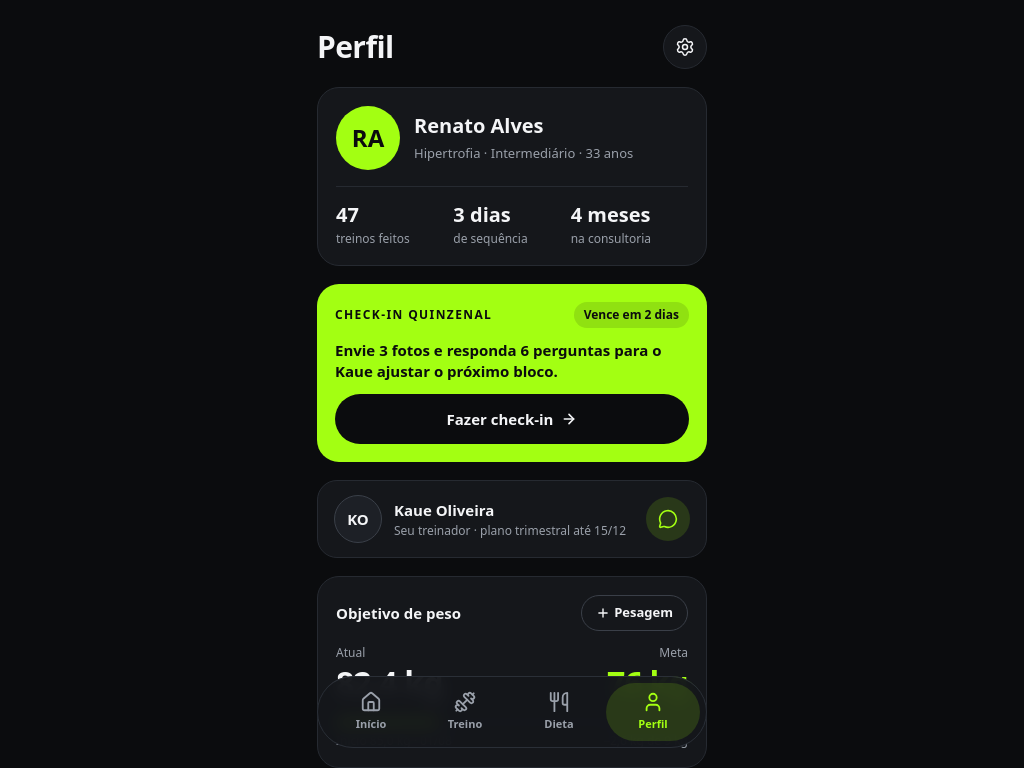
Test: Perfil › registrar uma pesagem atualiza a meta
Expected: the element named "Seus dados" is shown, left=317, top=87, right=707, bottom=266
Click the button "Pesagem" at [635, 613], box left=581, top=595, right=688, bottom=631
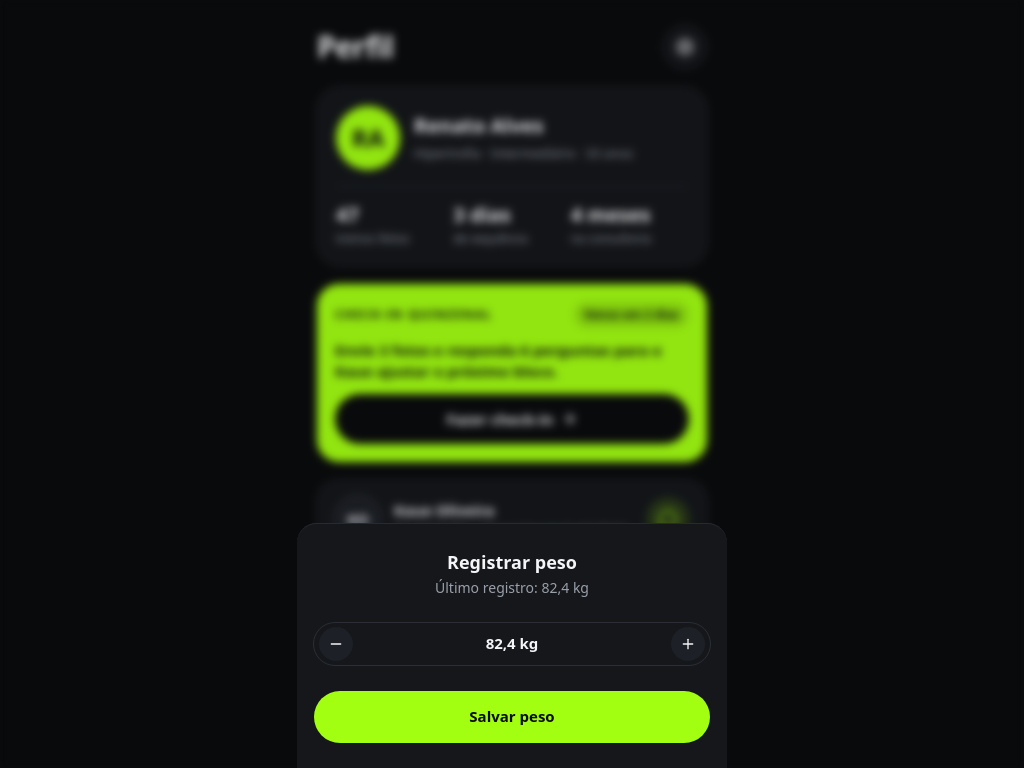
Click the button named "Diminuir" at [336, 644], box left=318, top=626, right=354, bottom=662
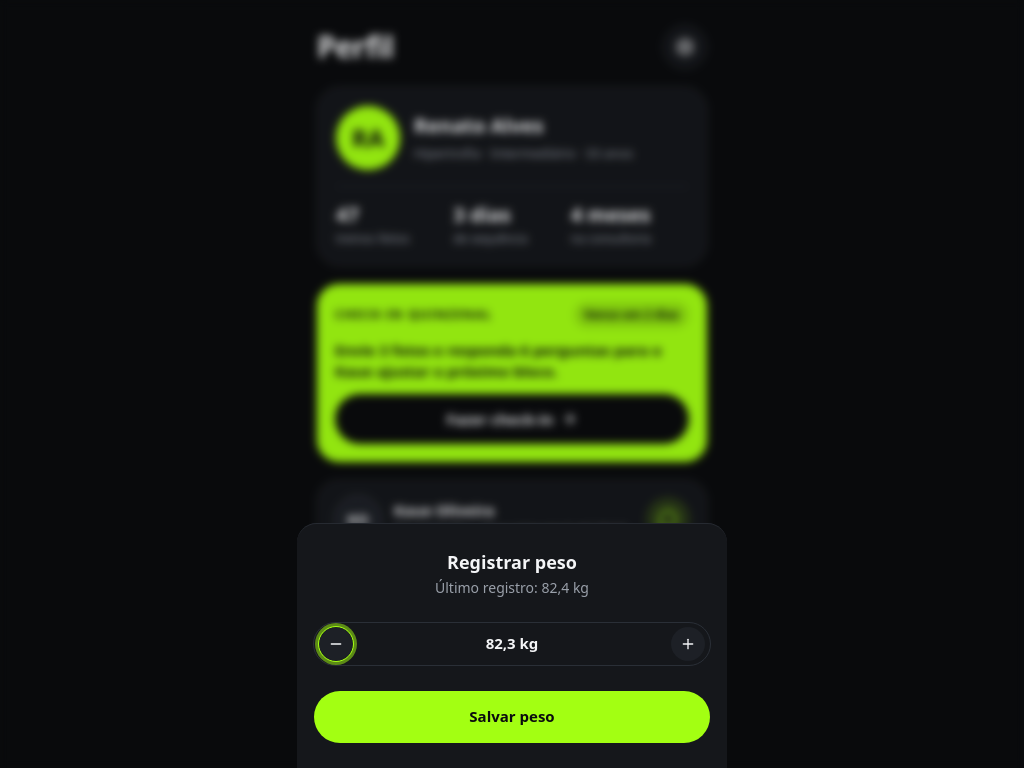
Click the button named "Diminuir" at [336, 644], box left=318, top=626, right=354, bottom=662
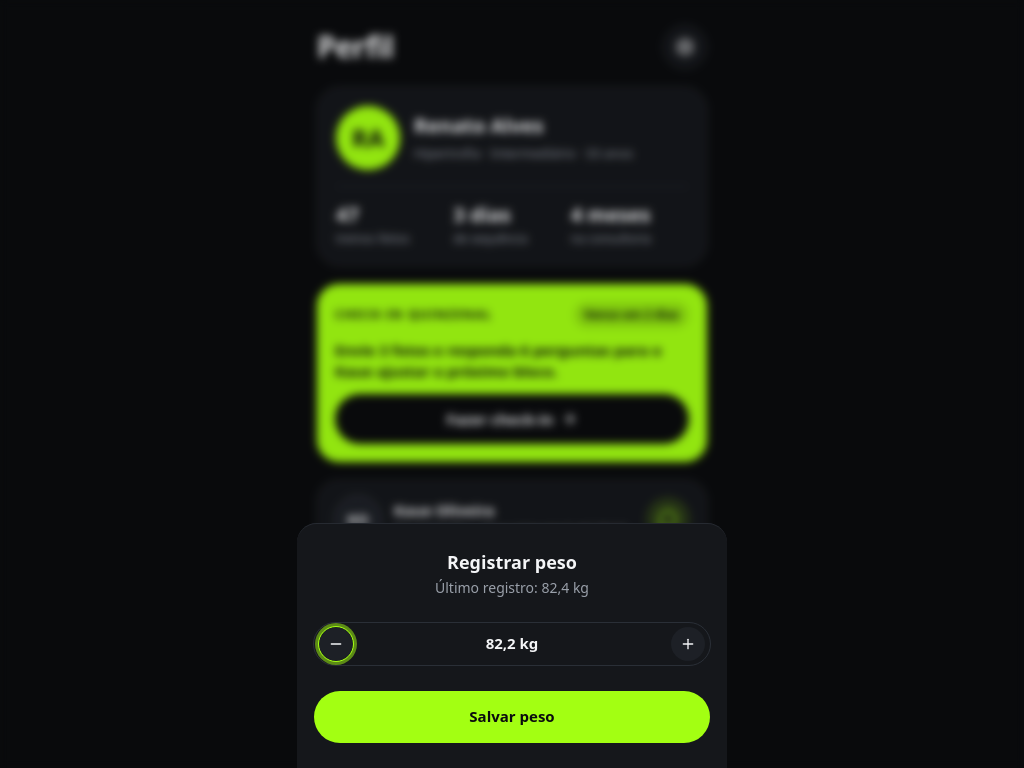
Click the button "Salvar peso" at [512, 717], box left=313, top=690, right=711, bottom=744
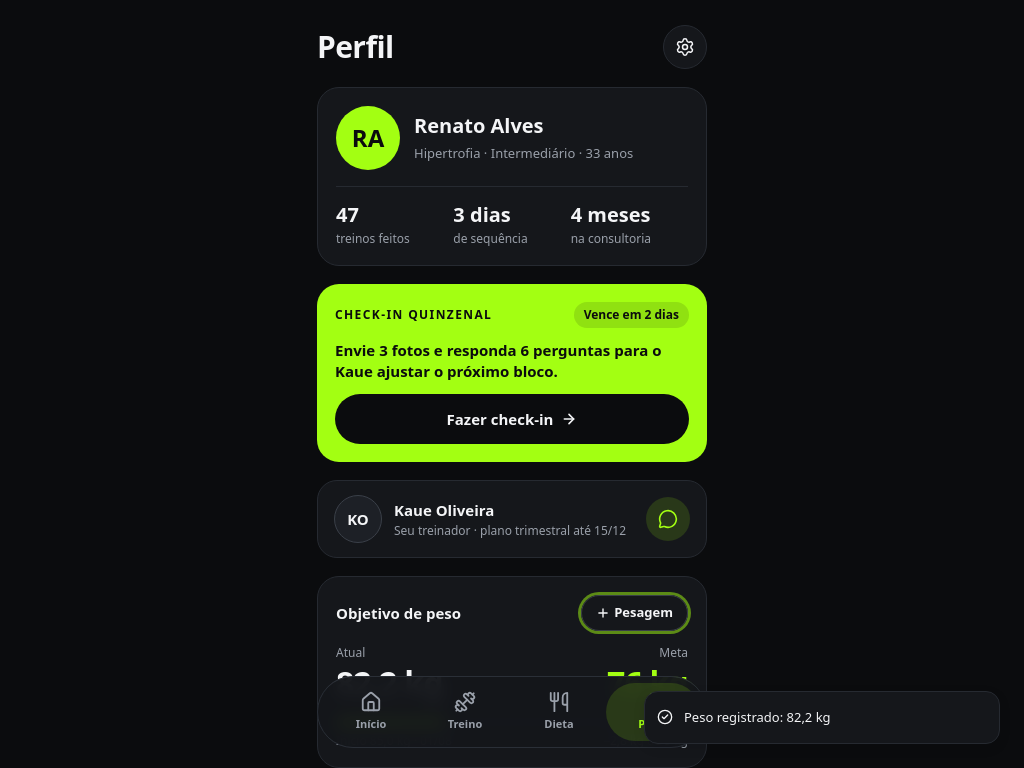
Expected: the element "Objetivo de peso" shows "−2,8 kg de 9 kg", left=603, top=732, right=688, bottom=749
